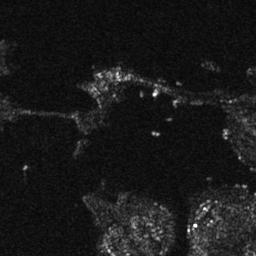ship: (150, 130, 160, 137)
